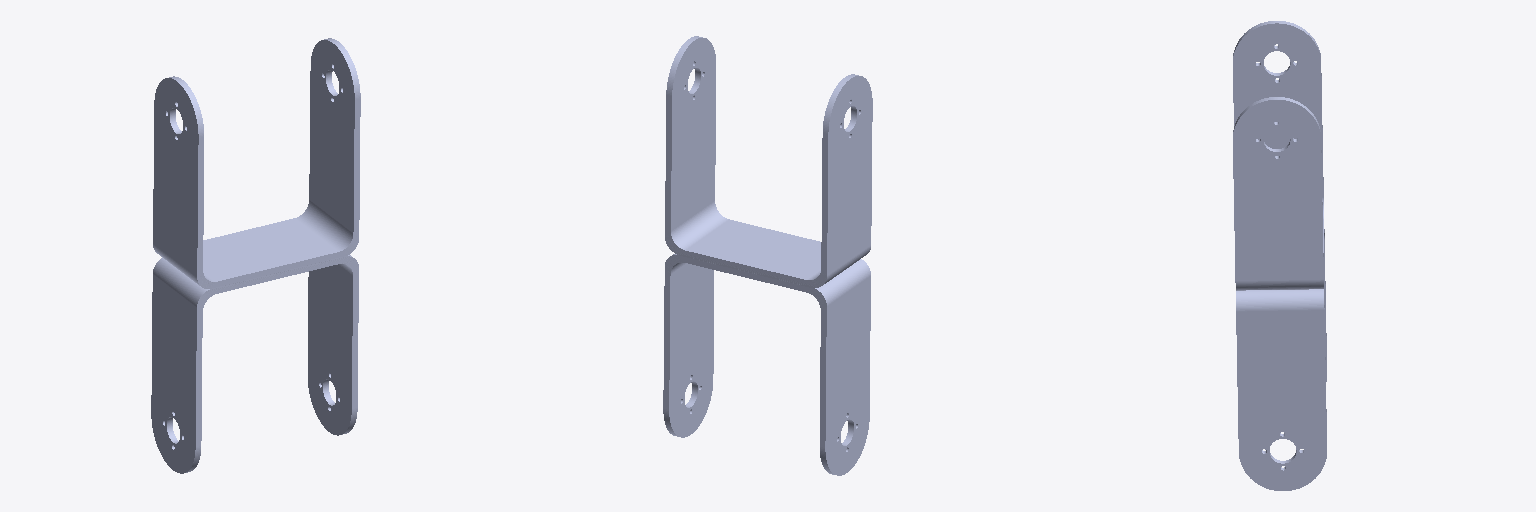
File: brazo.obj
3 views of the same model, side by side, from view 1: azimuth 30°, elevation 25°; view 2: azimuth 150°, elevation 25°; view 3: azimuth 270°, elevation 25° (orthographic).
Visible parts, largest first — view 1: Fillet4; view 2: Fillet4; view 3: Fillet4.
Boxes of the visible parts, <box> form: Fillet4: <box>151,38,360,473</box>; Fillet4: <box>663,36,872,475</box>; Fillet4: <box>1233,21,1326,490</box>.
Bounding box in the file's own units: 2.17 × 5 × 1.09.